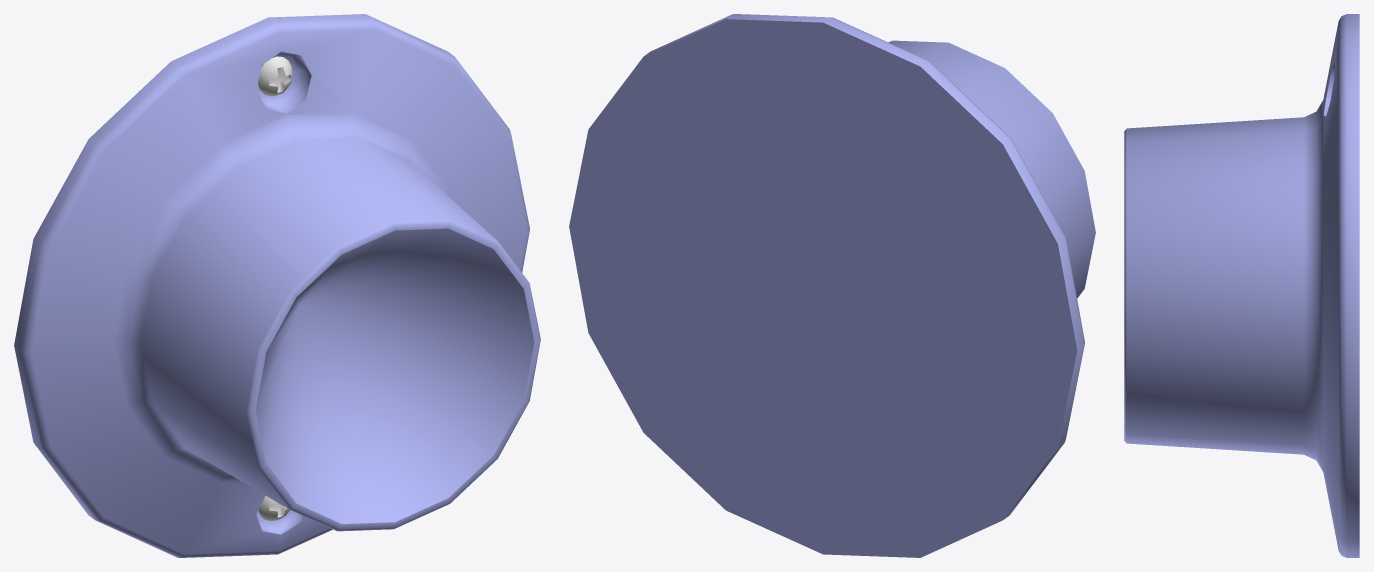
File: railend.fbx
3 renders of one model, left to right at view 1: azimuth 30°, elevation 25°; view 2: azimuth 150°, elevation 25°; view 3: azimuth 270°, elevation 25°, orthographic. The views are drawn at different scales.
Parts seen in each view (by area): view 1: hammermesh-2, Sphere; view 2: hammermesh-2; view 3: hammermesh-2.
Boxes of the visible parts, bbox=[...] form: hammermesh-2: bbox=[14, 14, 540, 557]; Sphere: bbox=[258, 56, 292, 521]; hammermesh-2: bbox=[569, 14, 1095, 557]; hammermesh-2: bbox=[1124, 14, 1359, 557].
Bounding box in the file's own units: 58.36 × 58.36 × 25.24.
